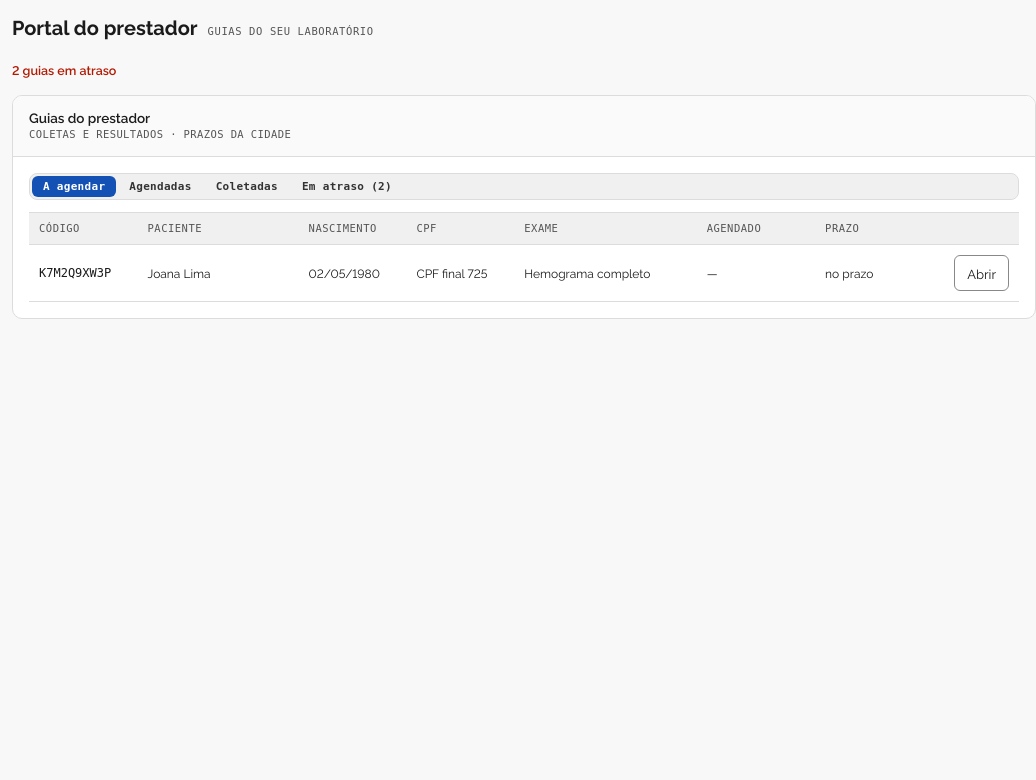
ProviderPortal › agenda sem escolher prestador
The image size is (1036, 780).
Click the button with aria-label "Abrir guia K7M2Q9XW3P": {"x": 982, "y": 273} x1=954 y1=255 x2=1009 y2=291
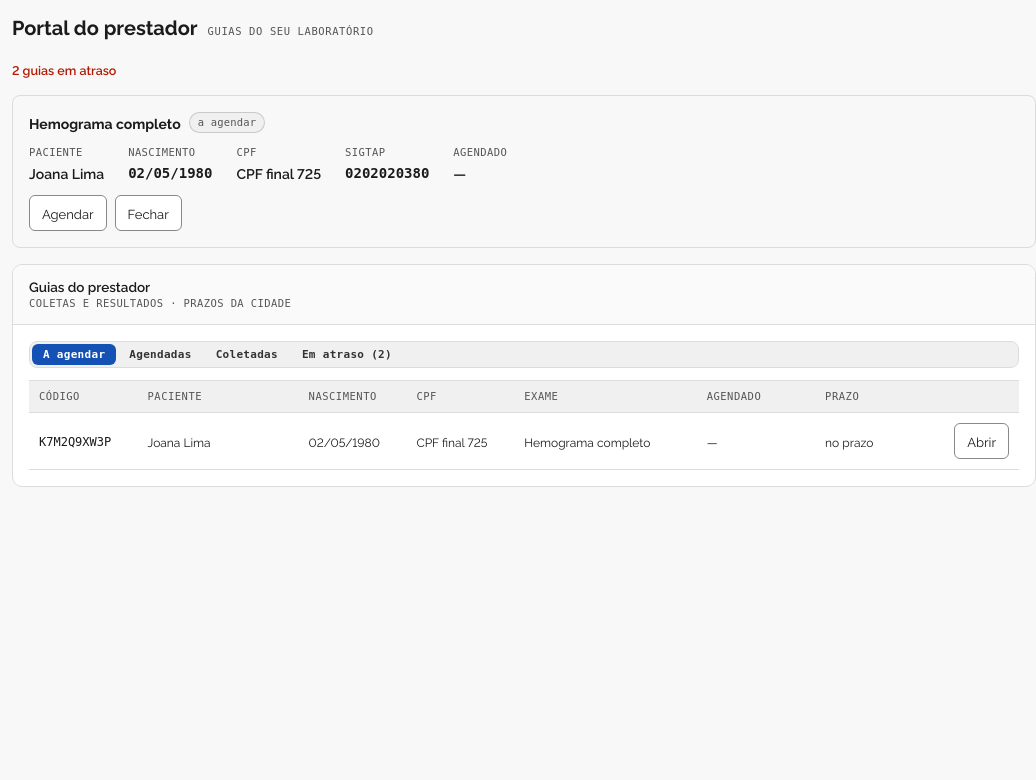
Click the button "Agendar": {"x": 68, "y": 213} x1=29 y1=195 x2=106 y2=231
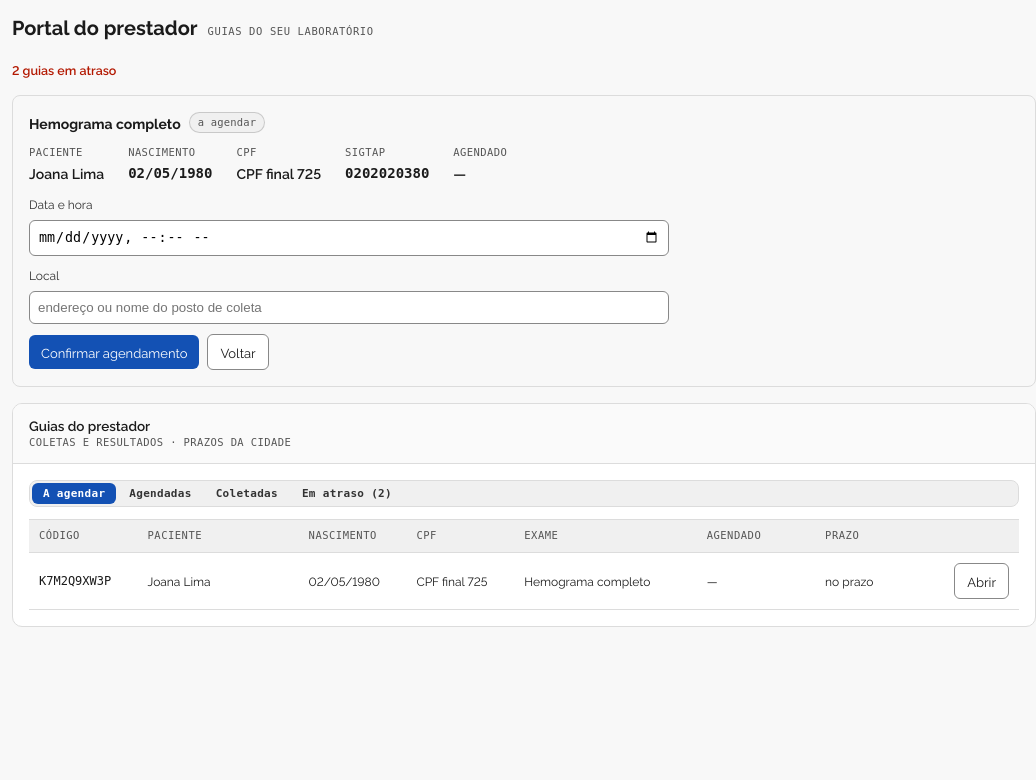
In the field labelled "Data e hora": {"x": 349, "y": 238} x1=29 y1=220 x2=669 y2=256, type "2026-10-20T08:30"
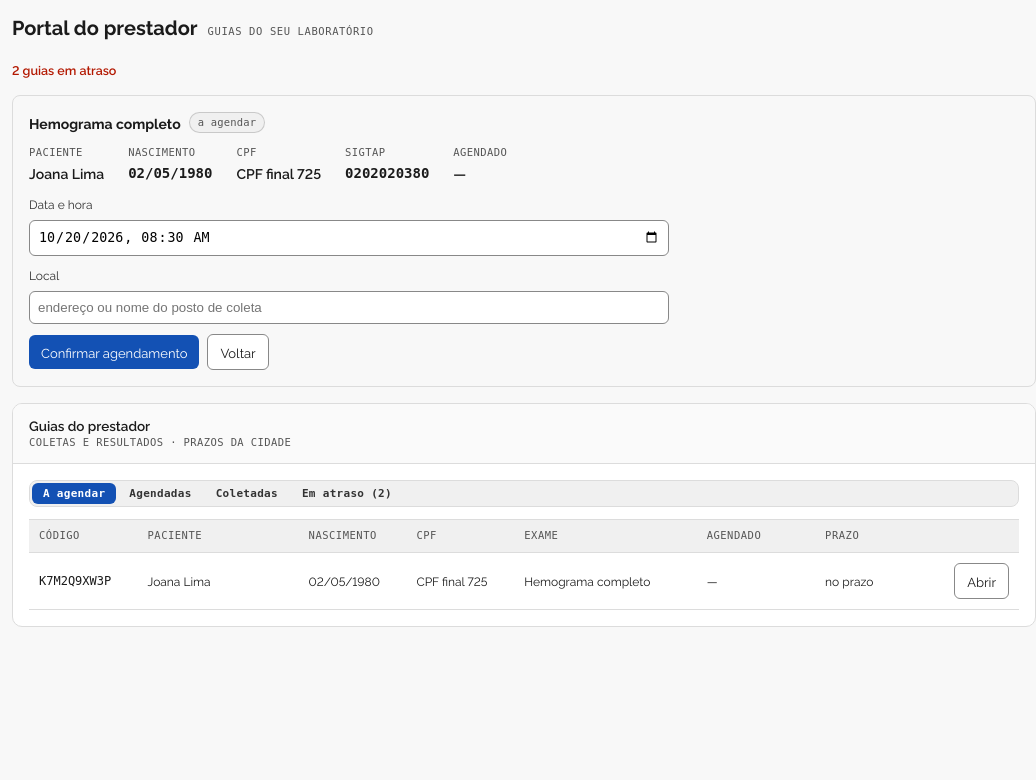
In the field labelled "Local": {"x": 349, "y": 308} x1=29 y1=291 x2=669 y2=324, type "Posto Centro"
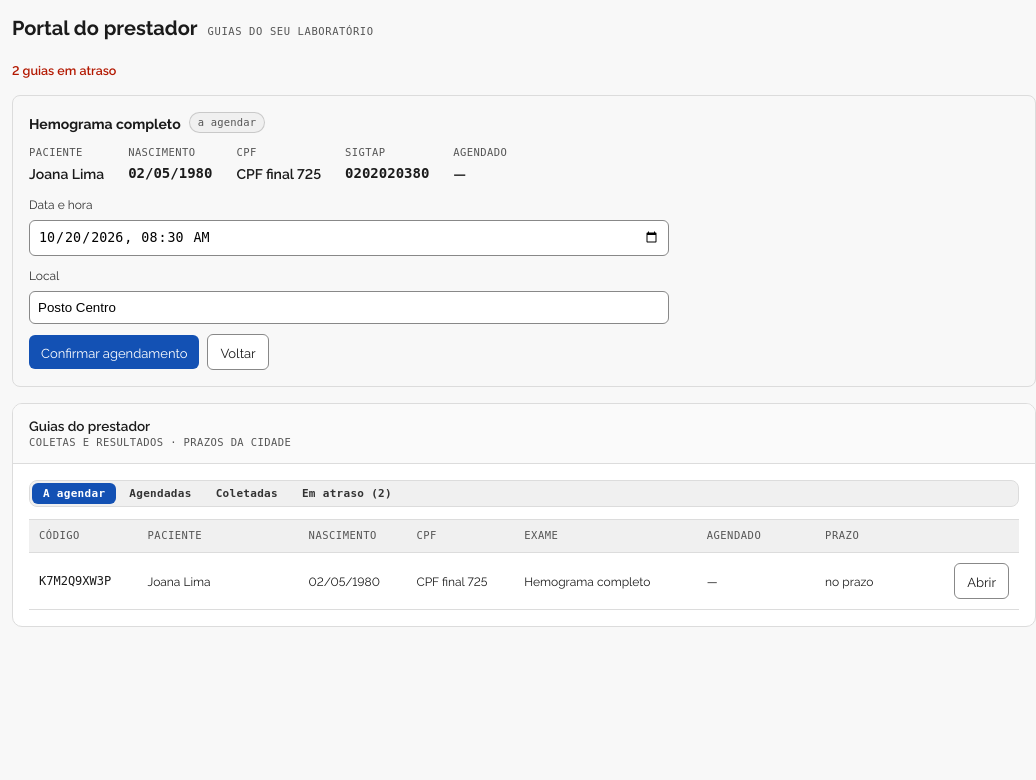
Click the button "Confirmar agendamento": {"x": 114, "y": 352} x1=29 y1=335 x2=199 y2=369
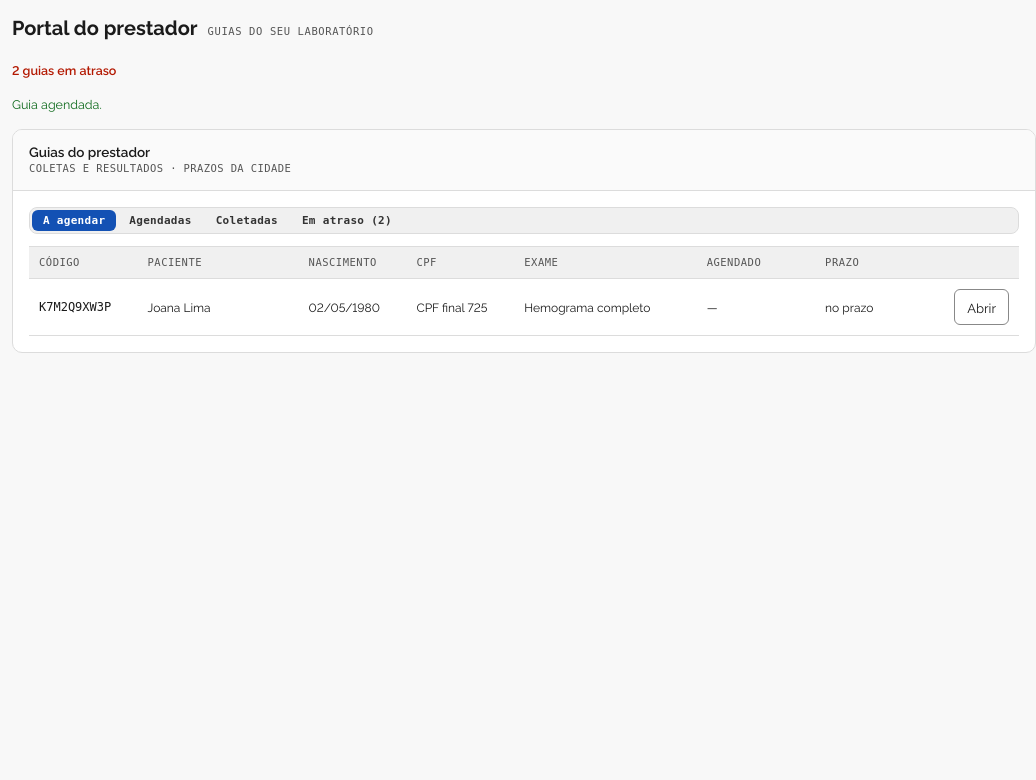
Check: the text "Guia agendada." is shown, box x1=12 y1=95 x2=102 y2=112
